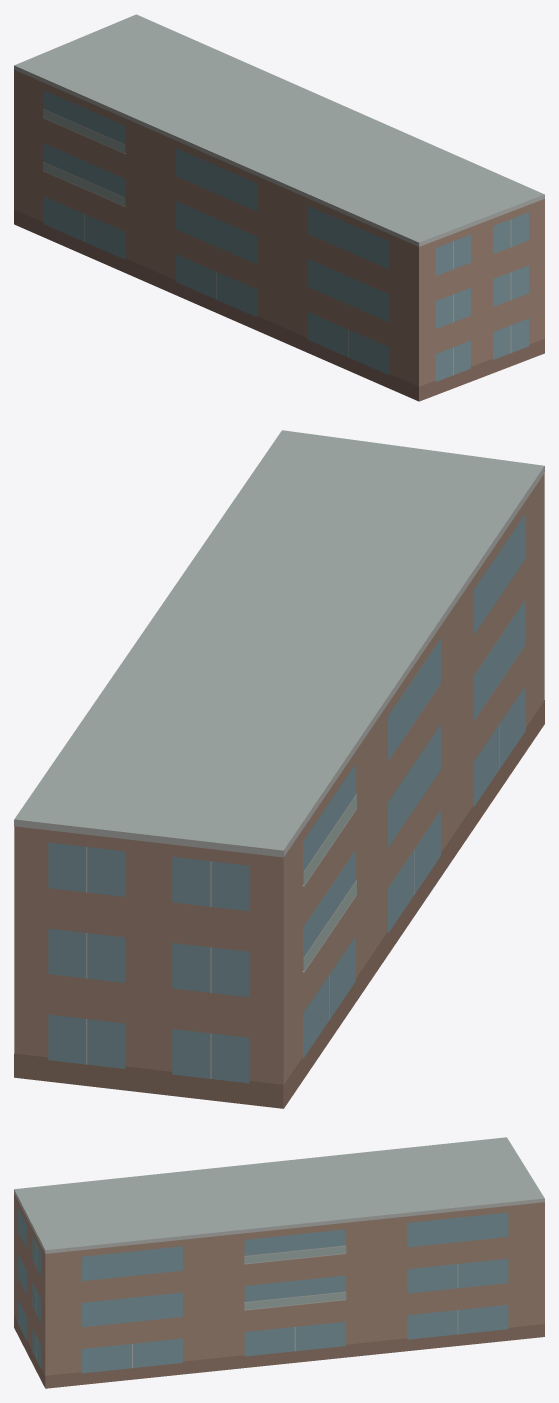
File: survey-upis-32969242.glb
The picture shows the model from 3 angles, top to bottom: view 1: azimuth 30°, elevation 25°; view 2: azimuth 150°, elevation 25°; view 3: azimuth 270°, elevation 25°; orthographic projection. The views are drawn at different scales.
Parts seen in each view (by area): view 1: survey-upis-32969242.tmp; view 2: survey-upis-32969242.tmp; view 3: survey-upis-32969242.tmp.
Boxes of the visible parts, x1,y1,x2,y2 form: survey-upis-32969242.tmp: [14, 14, 544, 401]; survey-upis-32969242.tmp: [14, 430, 544, 1108]; survey-upis-32969242.tmp: [14, 1137, 544, 1388].
Bounding box in the file's own units: 16.04 × 9.15 × 31.81.
